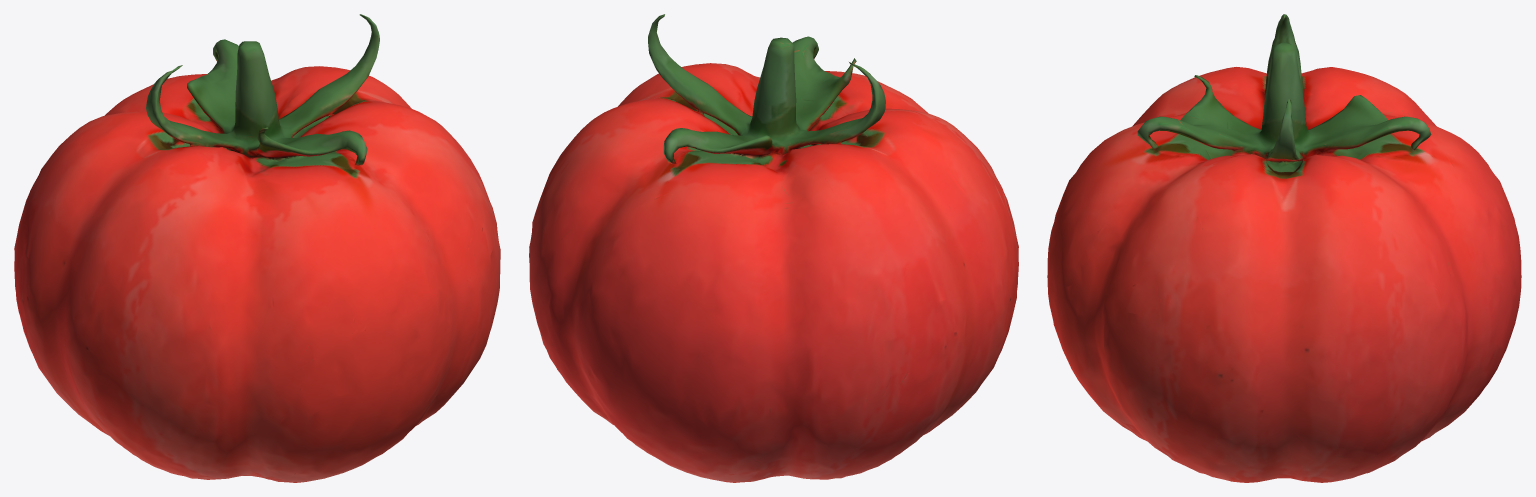
The model's file is tomato.glb.
3 views of the same model, side by side, from view 1: azimuth 30°, elevation 25°; view 2: azimuth 150°, elevation 25°; view 3: azimuth 270°, elevation 25° (orthographic). The views are drawn at different scales.
Parts seen in each view (by area): view 1: Mesh1.0; view 2: Mesh1.0; view 3: Mesh1.0.
Part boxes in pixels (x1,y1,x2,y2): Mesh1.0: [14, 14, 500, 482]; Mesh1.0: [529, 14, 1018, 482]; Mesh1.0: [1047, 14, 1521, 482].
Bounding box in the file's own units: 0.7583 × 0.7 × 0.766.
1 material, 1 textured.
